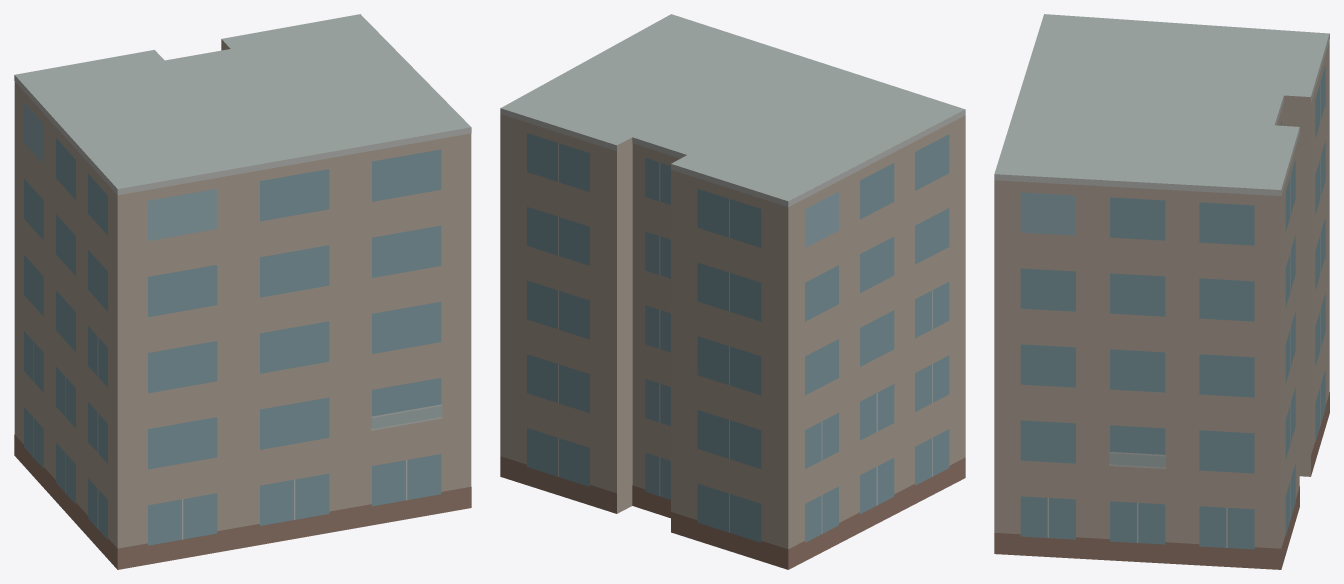
File: survey-upis-32631951.glb
3 views of the same model, side by side, from view 1: azimuth 30°, elevation 25°; view 2: azimuth 150°, elevation 25°; view 3: azimuth 270°, elevation 25° (orthographic). The views are drawn at different scales.
Parts seen in each view (by area): view 1: survey-upis-32631951.tmp; view 2: survey-upis-32631951.tmp; view 3: survey-upis-32631951.tmp.
Part boxes in pixels (<box>): survey-upis-32631951.tmp: <box>14,14,471,569</box>; survey-upis-32631951.tmp: <box>500,14,965,569</box>; survey-upis-32631951.tmp: <box>994,14,1329,569</box>.
Bounding box in the file's own units: 15.17 × 15.25 × 12.21.
